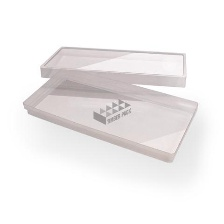plastic_box: (17, 67, 203, 167), (35, 40, 192, 92)
